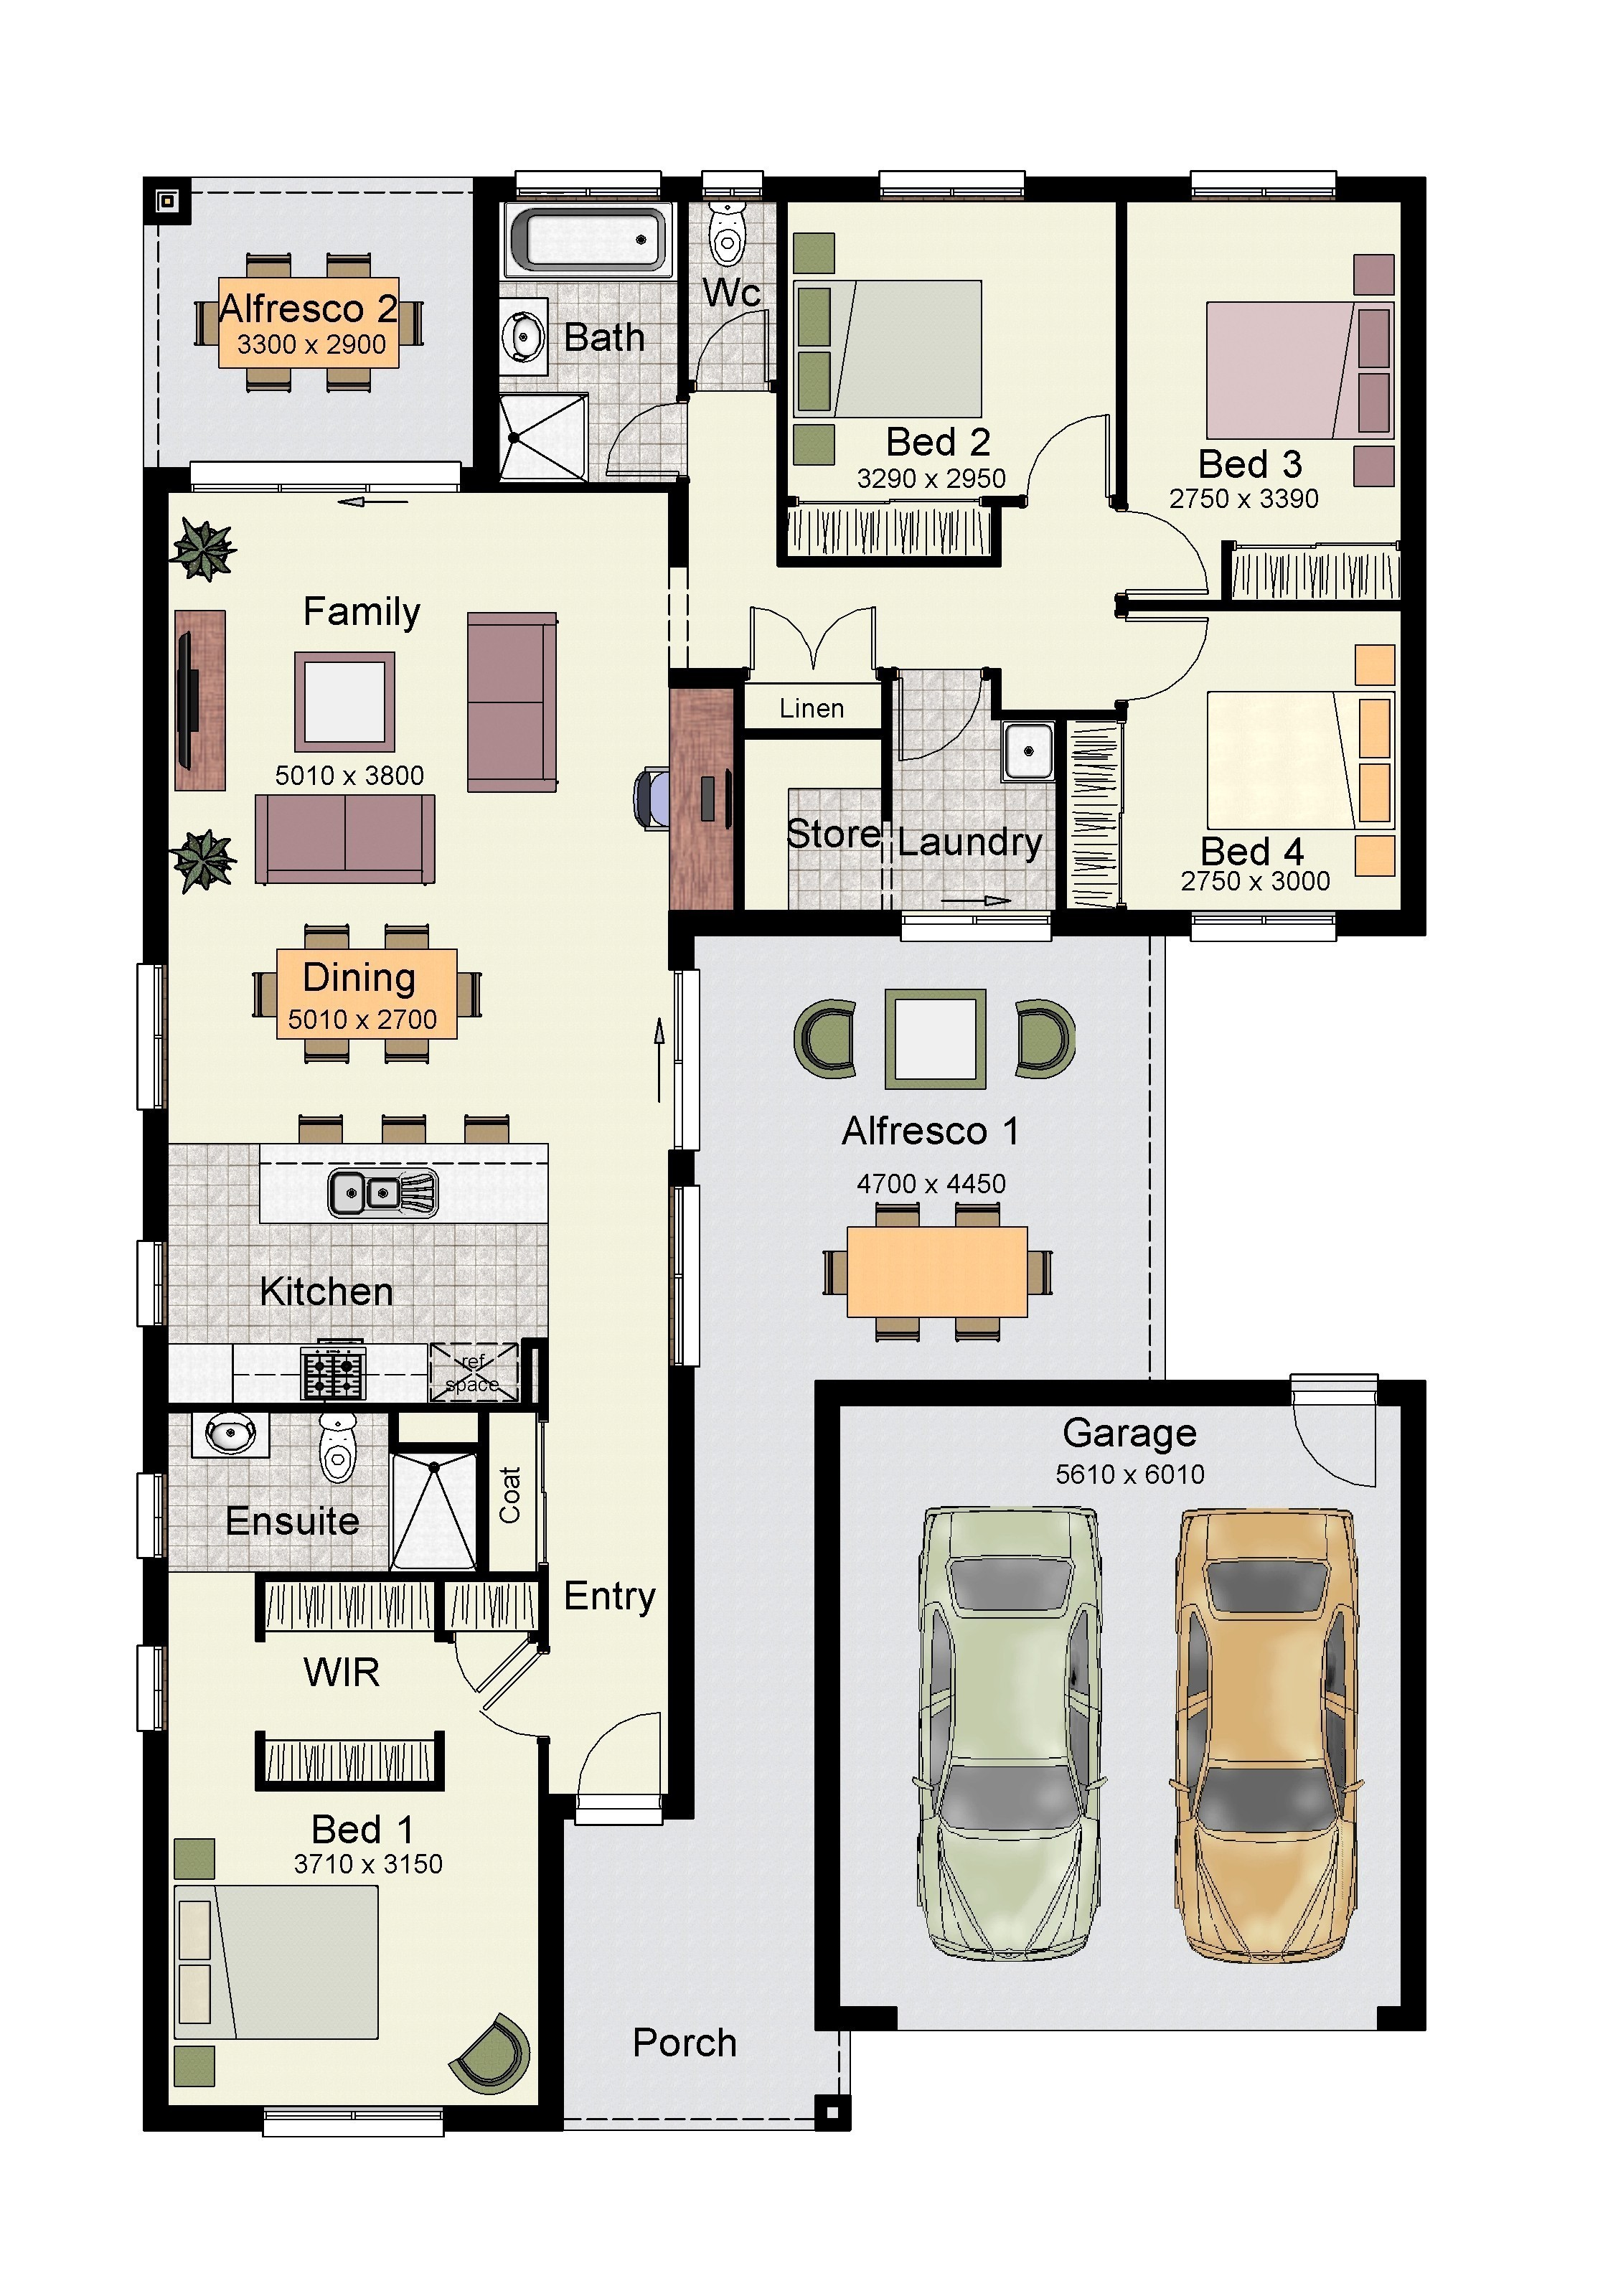window: (187, 459, 461, 499), (665, 968, 704, 1153), (665, 1185, 704, 1370), (897, 905, 1053, 947), (1187, 905, 1337, 947), (511, 166, 662, 206), (136, 961, 175, 1111), (875, 167, 1028, 204), (1185, 167, 1339, 204), (134, 1640, 173, 1732), (134, 1237, 173, 1328), (133, 1471, 169, 1561), (698, 167, 766, 206)
